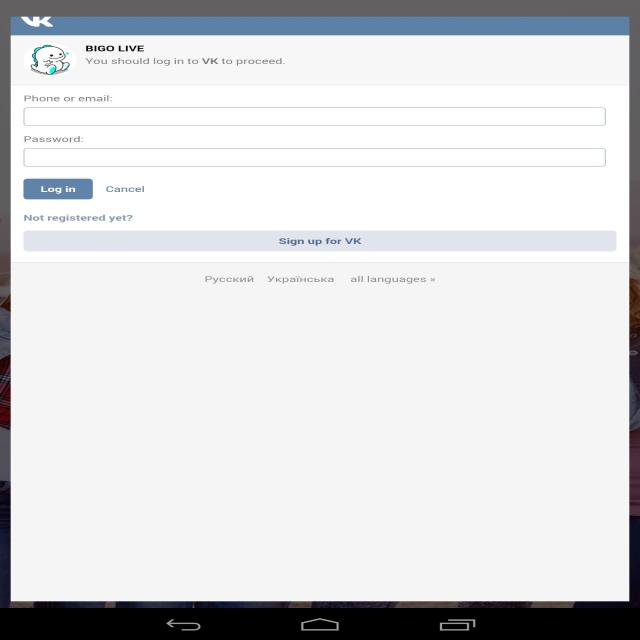field: (23, 147, 606, 166), (26, 107, 606, 126)
heading: (84, 42, 147, 54)
image: (28, 41, 75, 78)
label: (24, 230, 618, 252), (26, 179, 91, 199), (101, 178, 150, 198), (23, 94, 112, 104), (23, 135, 85, 143)
link: (24, 214, 134, 222), (350, 274, 438, 284)
text: (83, 57, 288, 67), (267, 274, 337, 285), (202, 274, 256, 286)
